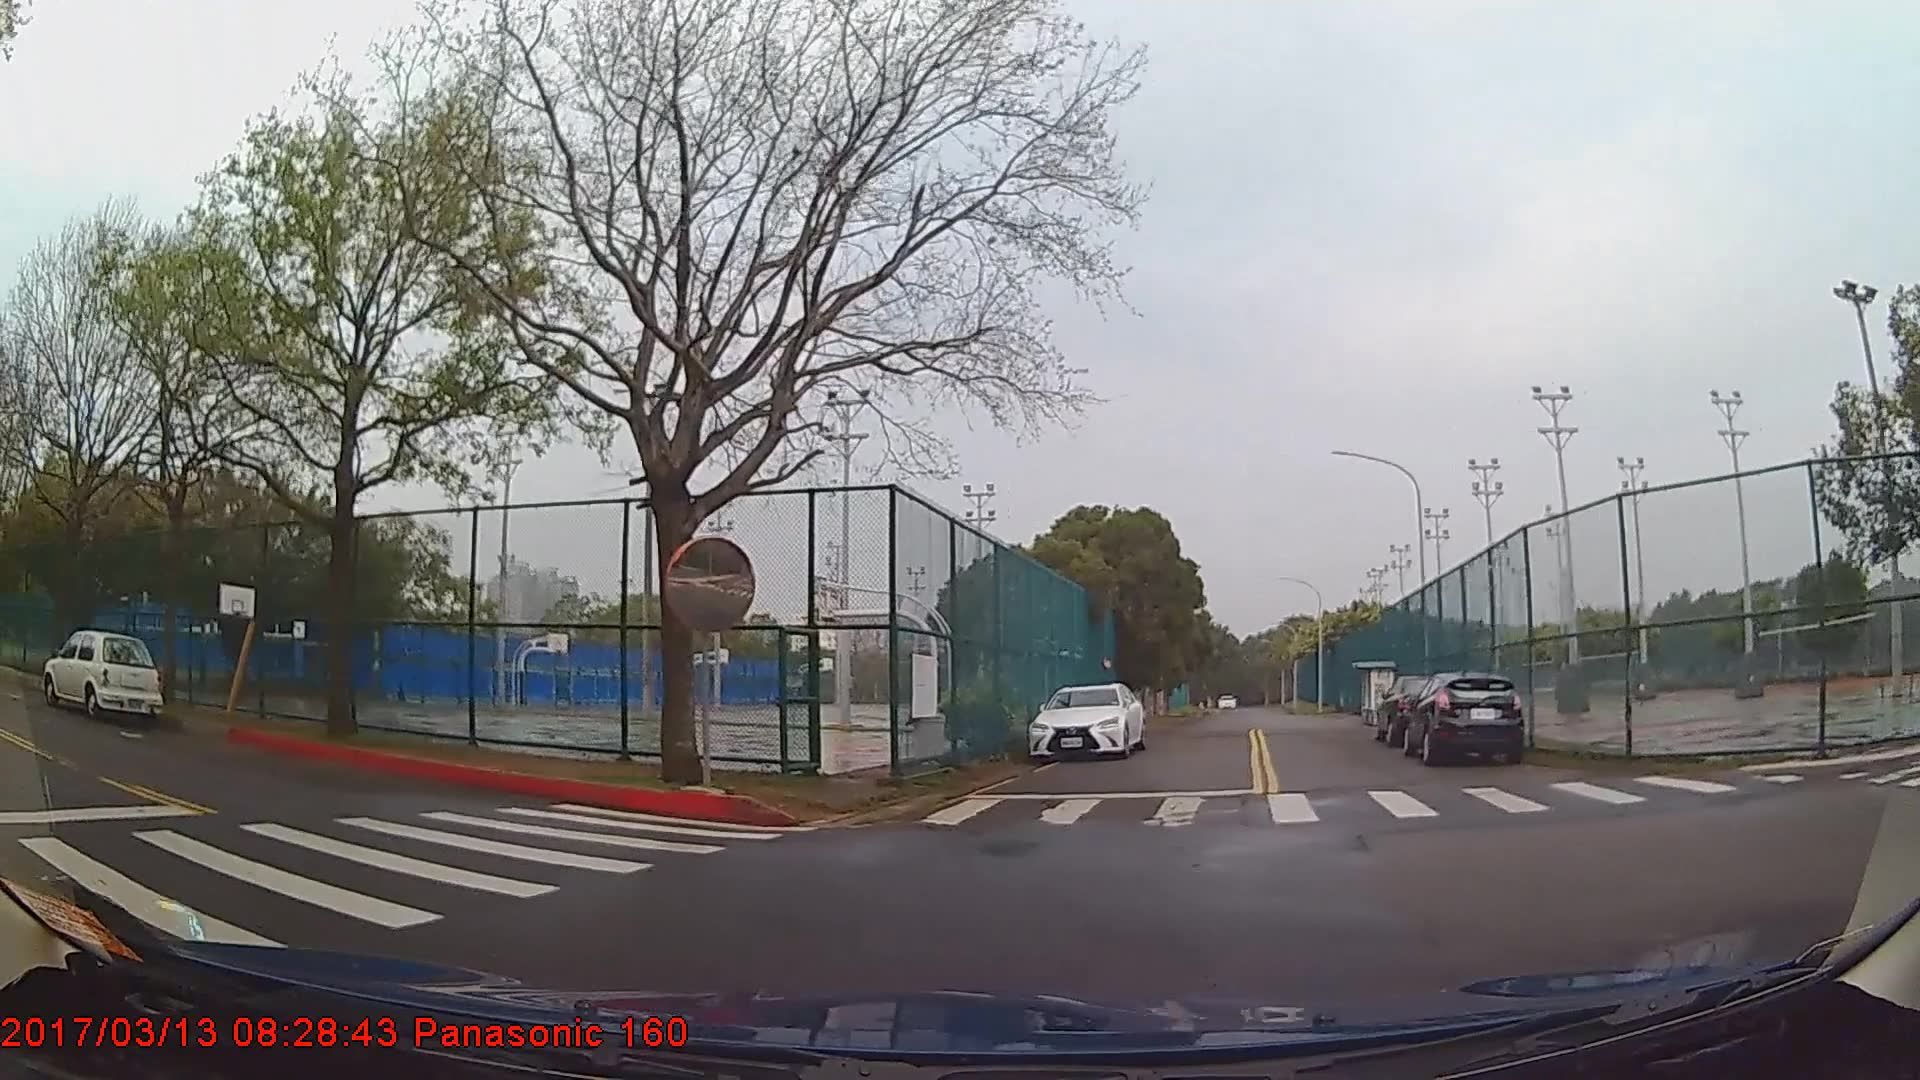vehicle: (40, 626, 167, 720), (1406, 671, 1528, 765), (1031, 682, 1145, 761)
